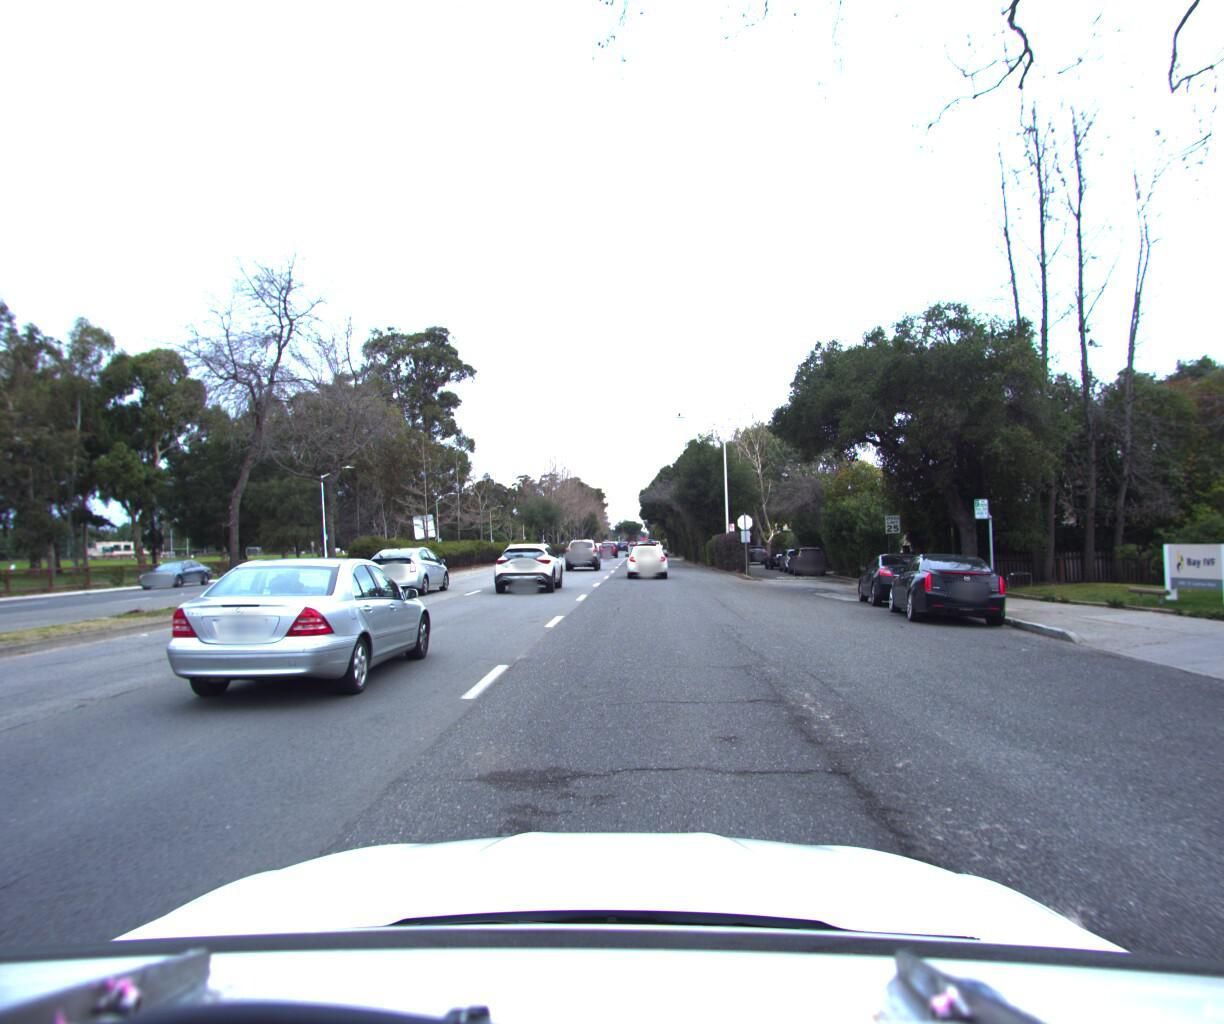car: (149, 545, 443, 712), (879, 542, 1014, 626), (855, 543, 952, 607), (355, 542, 456, 596), (493, 537, 565, 590), (129, 555, 218, 588), (624, 539, 667, 577), (781, 538, 827, 570), (562, 534, 601, 570), (772, 541, 806, 567), (761, 545, 792, 565), (740, 538, 766, 559), (599, 535, 619, 554)
